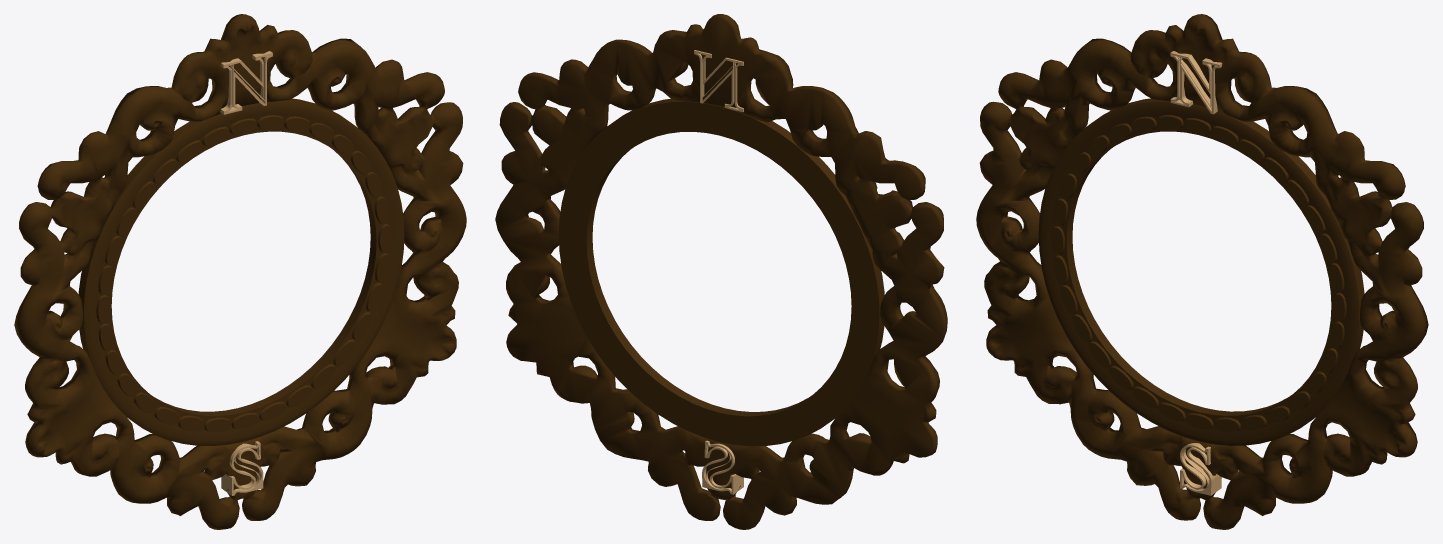
File: Lock.fbx
3 views of the same model, side by side, from view 1: azimuth 30°, elevation 25°; view 2: azimuth 150°, elevation 25°; view 3: azimuth 330°, elevation 25° (orthographic).
Parts seen in each view (by area): view 1: node_id86, node_id102, node_id107; view 2: node_id86, node_id102, node_id107; view 3: node_id86, node_id102, node_id107.
Boxes of the visible parts, box(x1,y1,x2,y2) form: node_id86: box(14, 14, 466, 529); node_id102: box(220, 51, 272, 114); node_id107: box(221, 441, 263, 495); node_id86: box(495, 14, 947, 529); node_id102: box(694, 50, 743, 112); node_id107: box(702, 440, 743, 494); node_id86: box(976, 14, 1428, 529); node_id102: box(1170, 51, 1222, 114); node_id107: box(1180, 443, 1221, 495).
Size of the model in its own units: 0.4708 by 0.512 by 0.0223.
3 materials, 3 textured.
